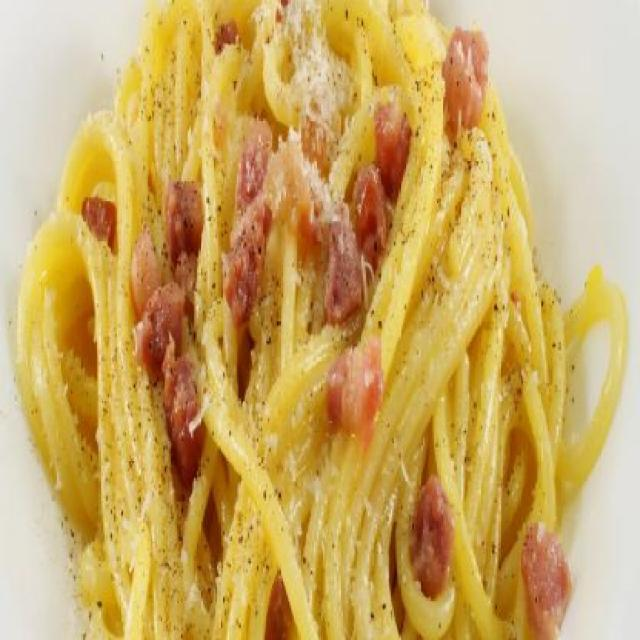Pasta with carbonara sauce: (33, 19, 593, 636)
